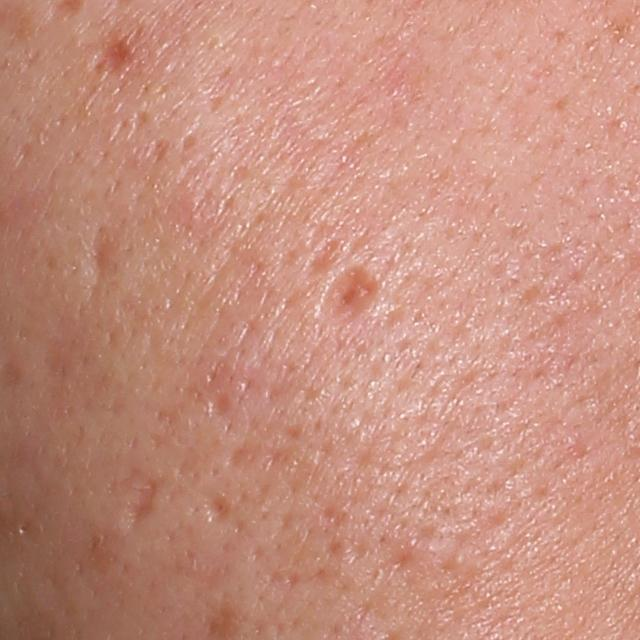atrophic_scar: (313, 272, 370, 340), (301, 236, 351, 283), (127, 472, 162, 529), (90, 219, 121, 282), (95, 35, 137, 76), (202, 493, 236, 531), (205, 386, 235, 425), (223, 443, 261, 473)
